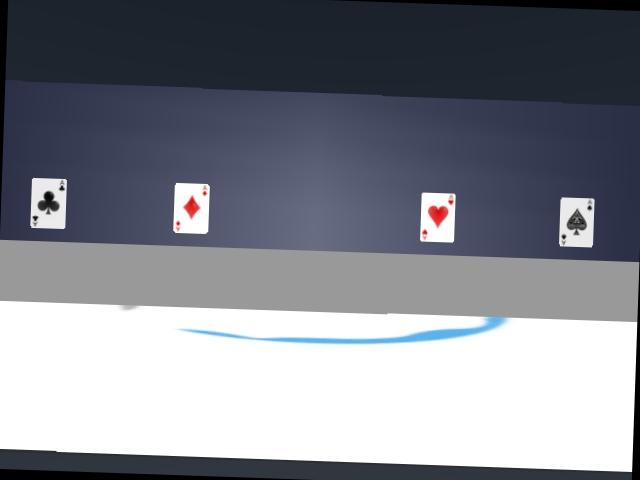club: (29, 178, 67, 228)
diamond: (173, 183, 209, 233)
heart: (420, 193, 455, 242)
spade: (558, 197, 594, 246)
